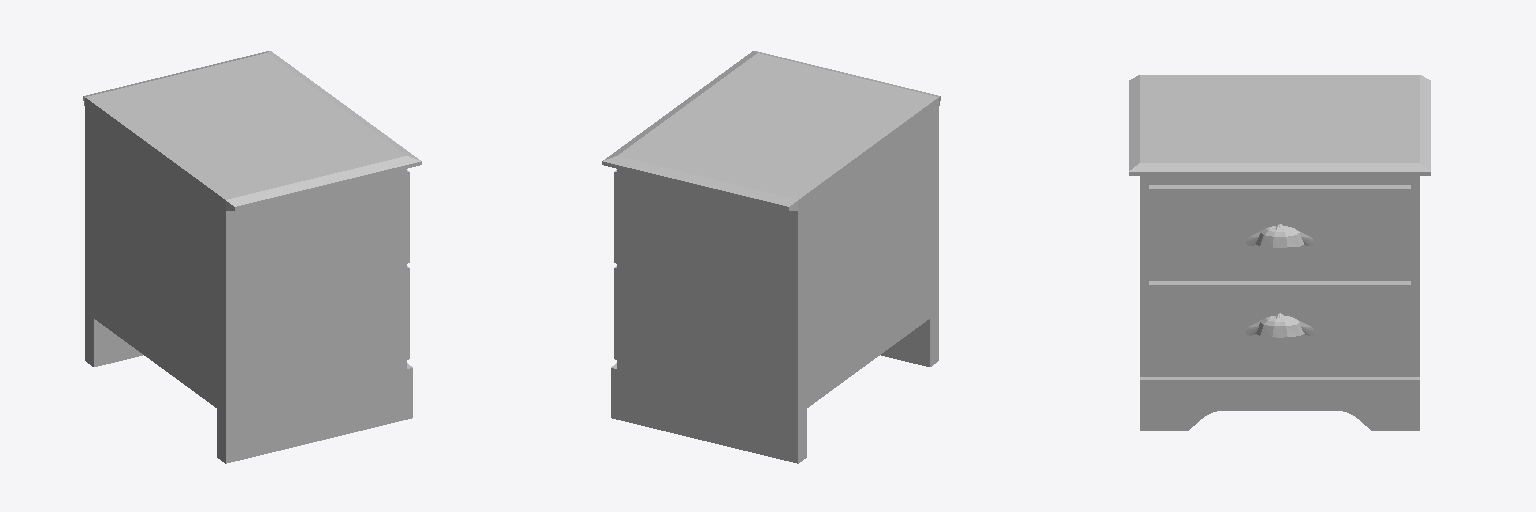
Rendered from 小櫃子.obj.
3 renders of one model, left to right at view 1: azimuth 30°, elevation 25°; view 2: azimuth 150°, elevation 25°; view 3: azimuth 270°, elevation 25°, orthographic.
Parts seen in each view (by area): view 1: low_b_low, a_low_low; view 2: low_b_low, a_low_low; view 3: a_low_low, low_b_low, low_c_low, low_d_low.
Part boxes in pixels (left/top/right/bottom): low_b_low: left=83, top=51, right=421, bottom=463; a_low_low: left=407, top=170, right=409, bottom=359; low_b_low: left=602, top=51, right=940, bottom=463; a_low_low: left=614, top=170, right=616, bottom=359; a_low_low: left=1149, top=185, right=1410, bottom=375; low_b_low: left=1129, top=75, right=1430, bottom=376; low_c_low: left=1140, top=377, right=1419, bottom=430; low_d_low: left=1246, top=224, right=1313, bottom=337.
Size of the model in its own units: 65.86 by 82.49 by 85.82.